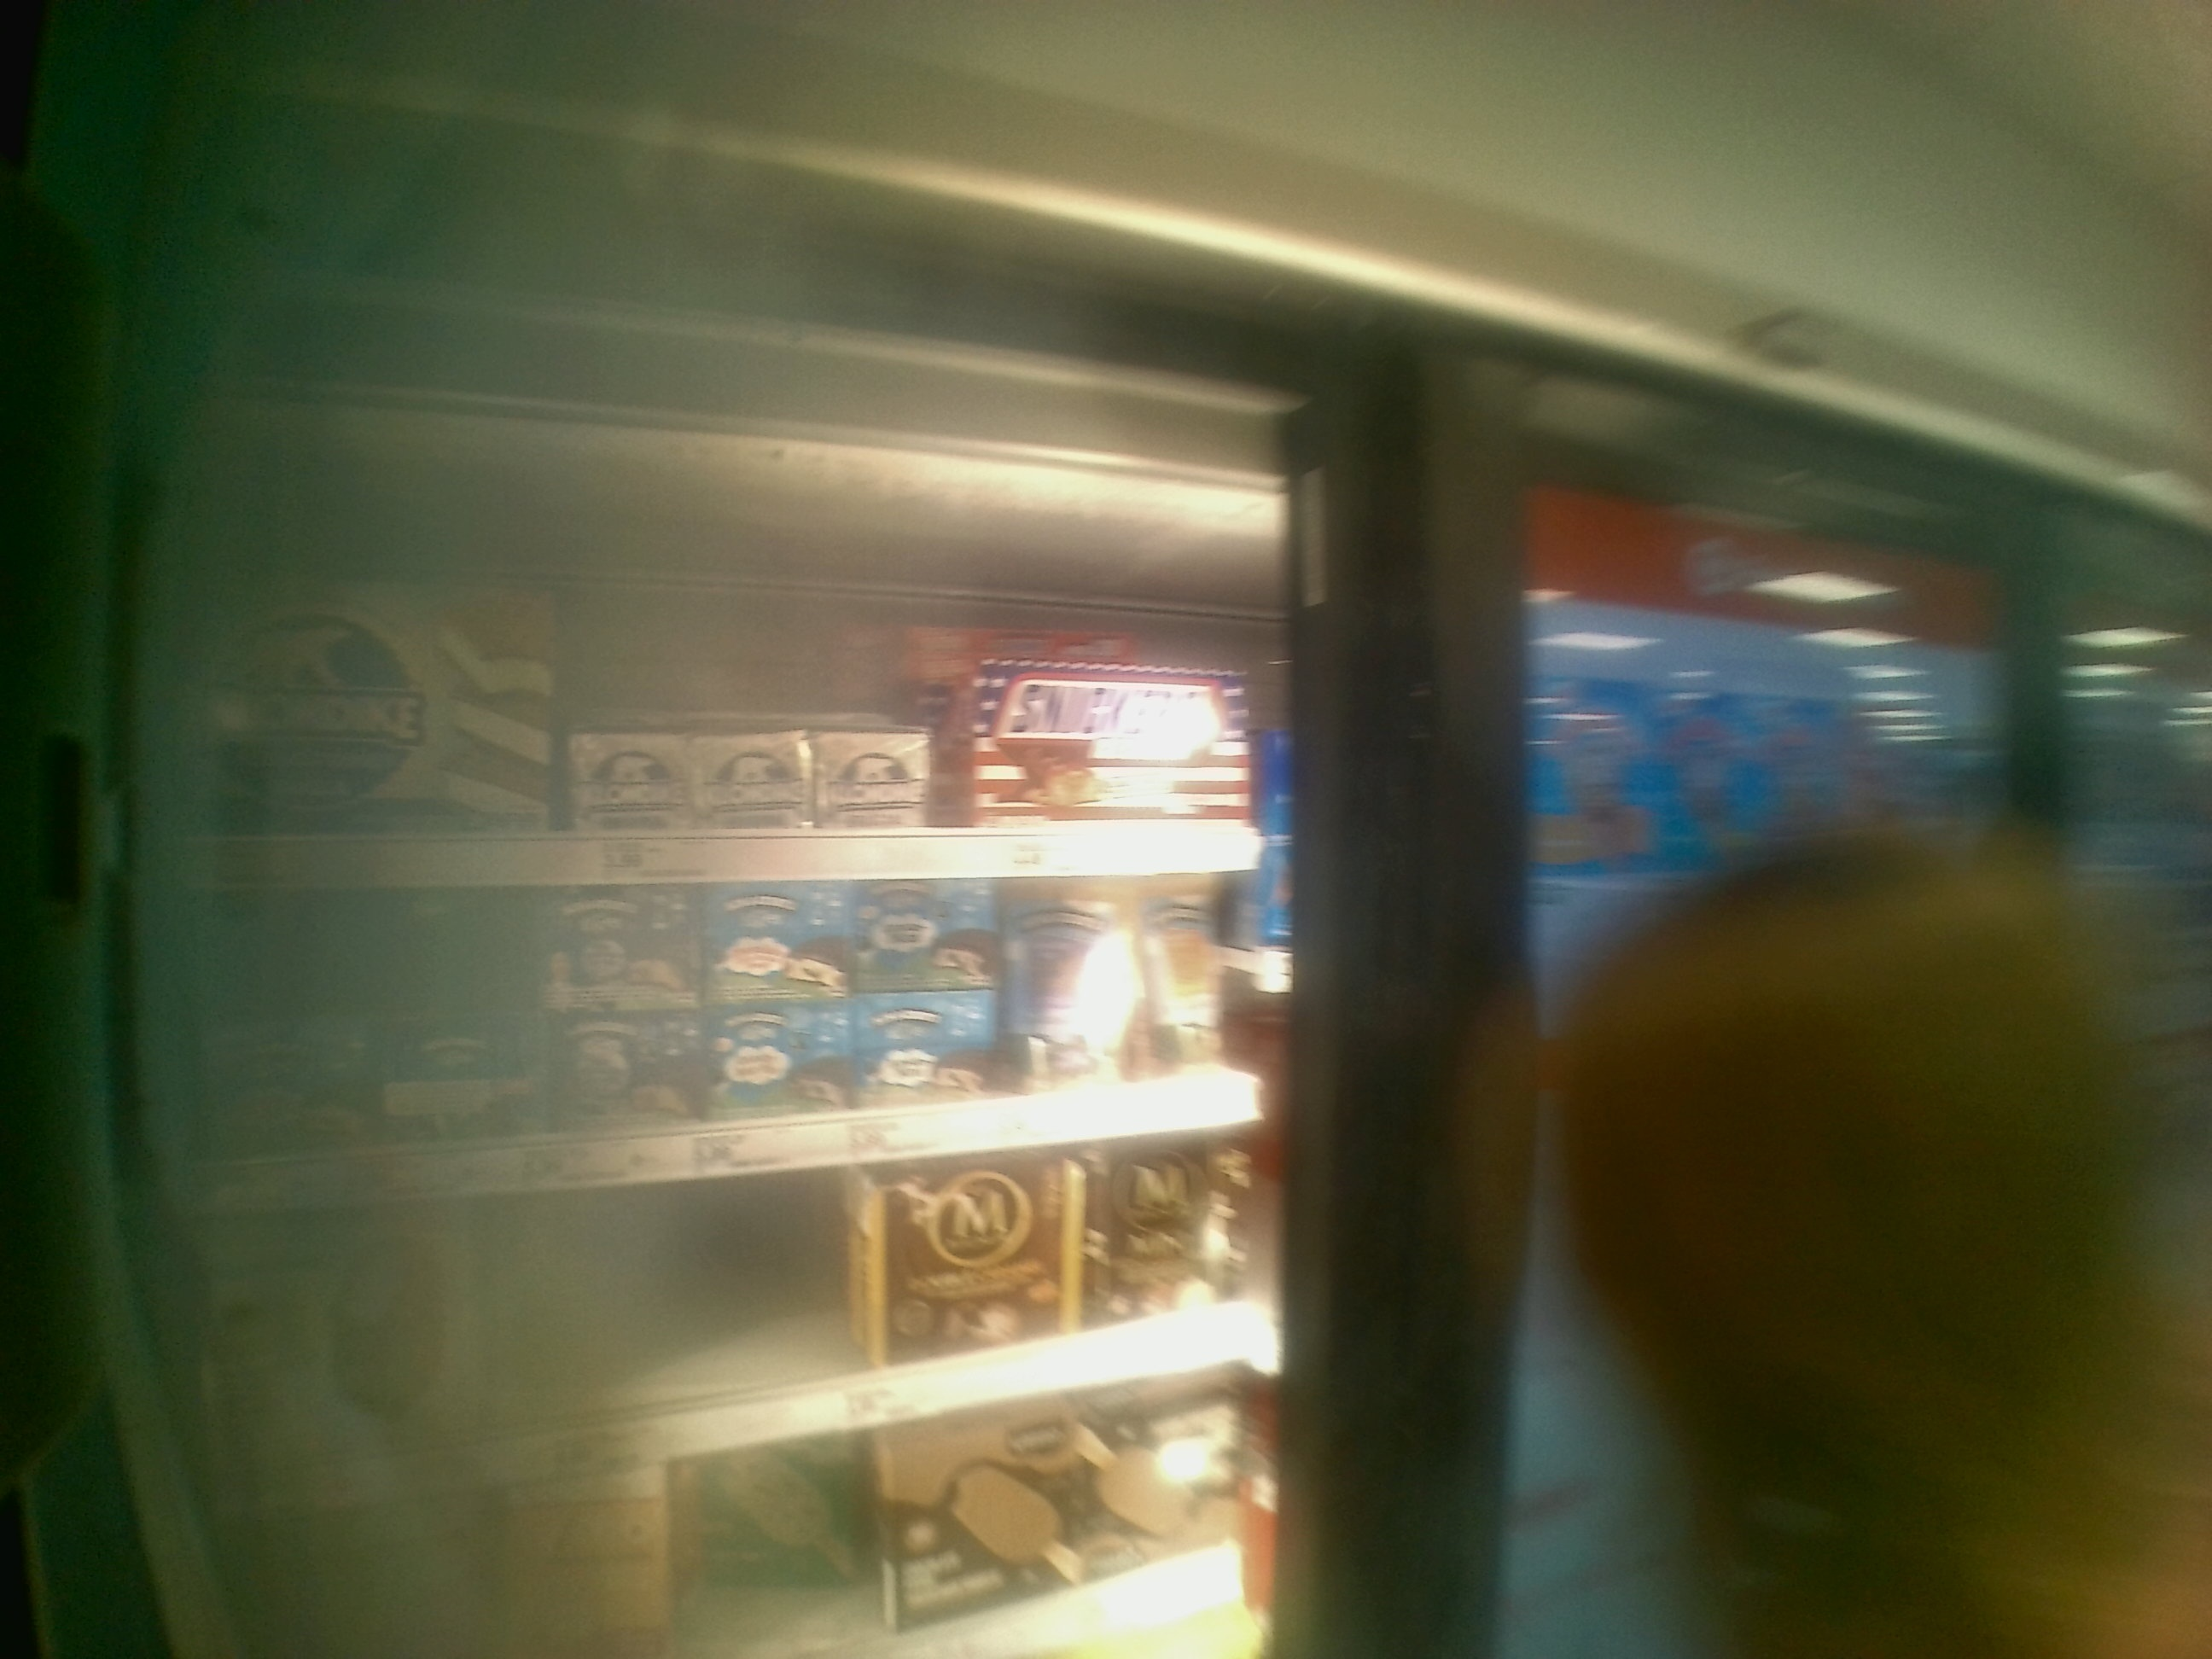ice-cream-shelf: (172, 512, 1287, 882)
